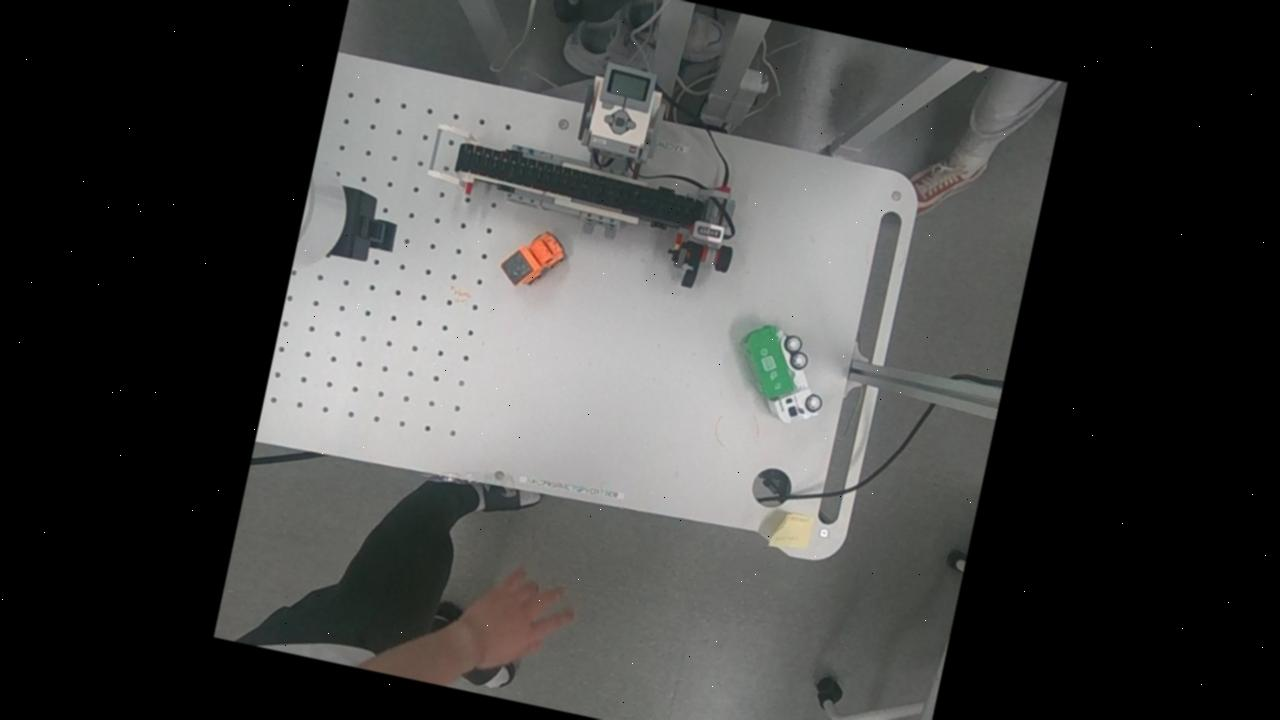green_car: (715, 312, 838, 431)
orange_car: (486, 222, 576, 301)
